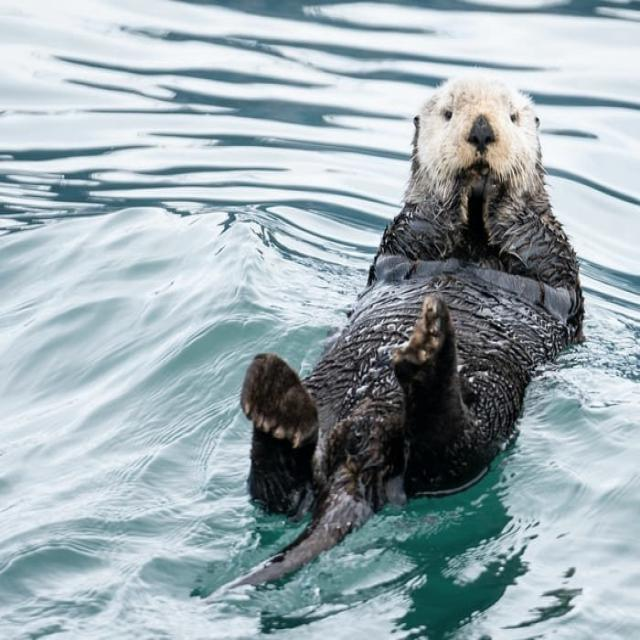otter: (240, 78, 584, 583)
